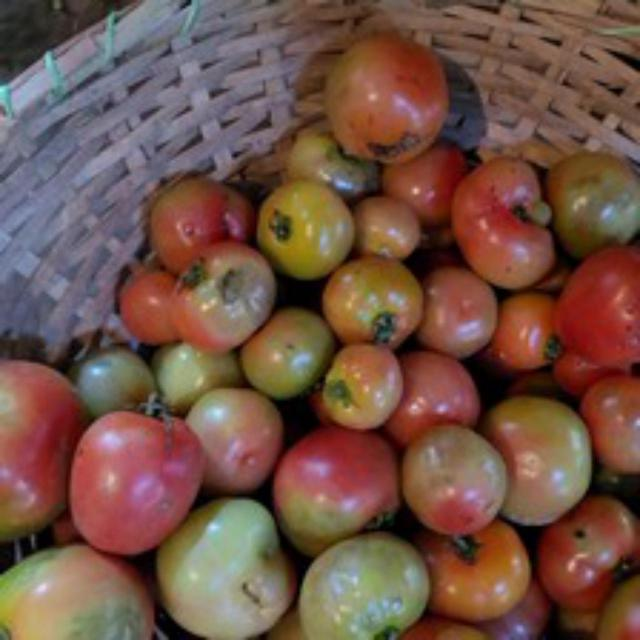tomato: (68, 404, 195, 556), (329, 32, 454, 167), (268, 424, 400, 544), (548, 244, 640, 376)
